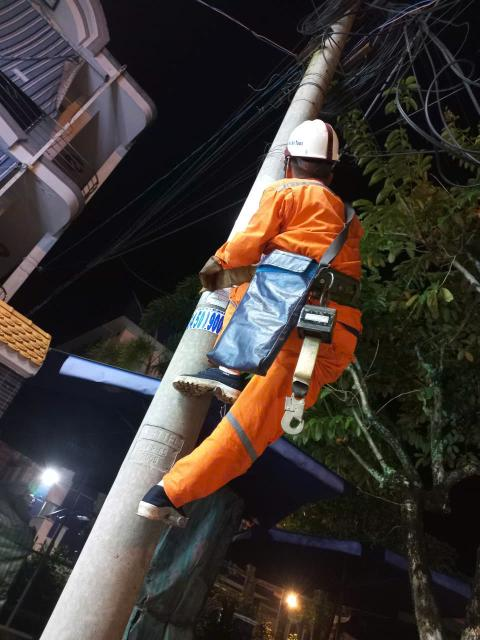harness: (269, 231, 375, 336)
helmet: (280, 114, 352, 166)
shoes: (124, 474, 214, 553), (171, 356, 253, 415)
